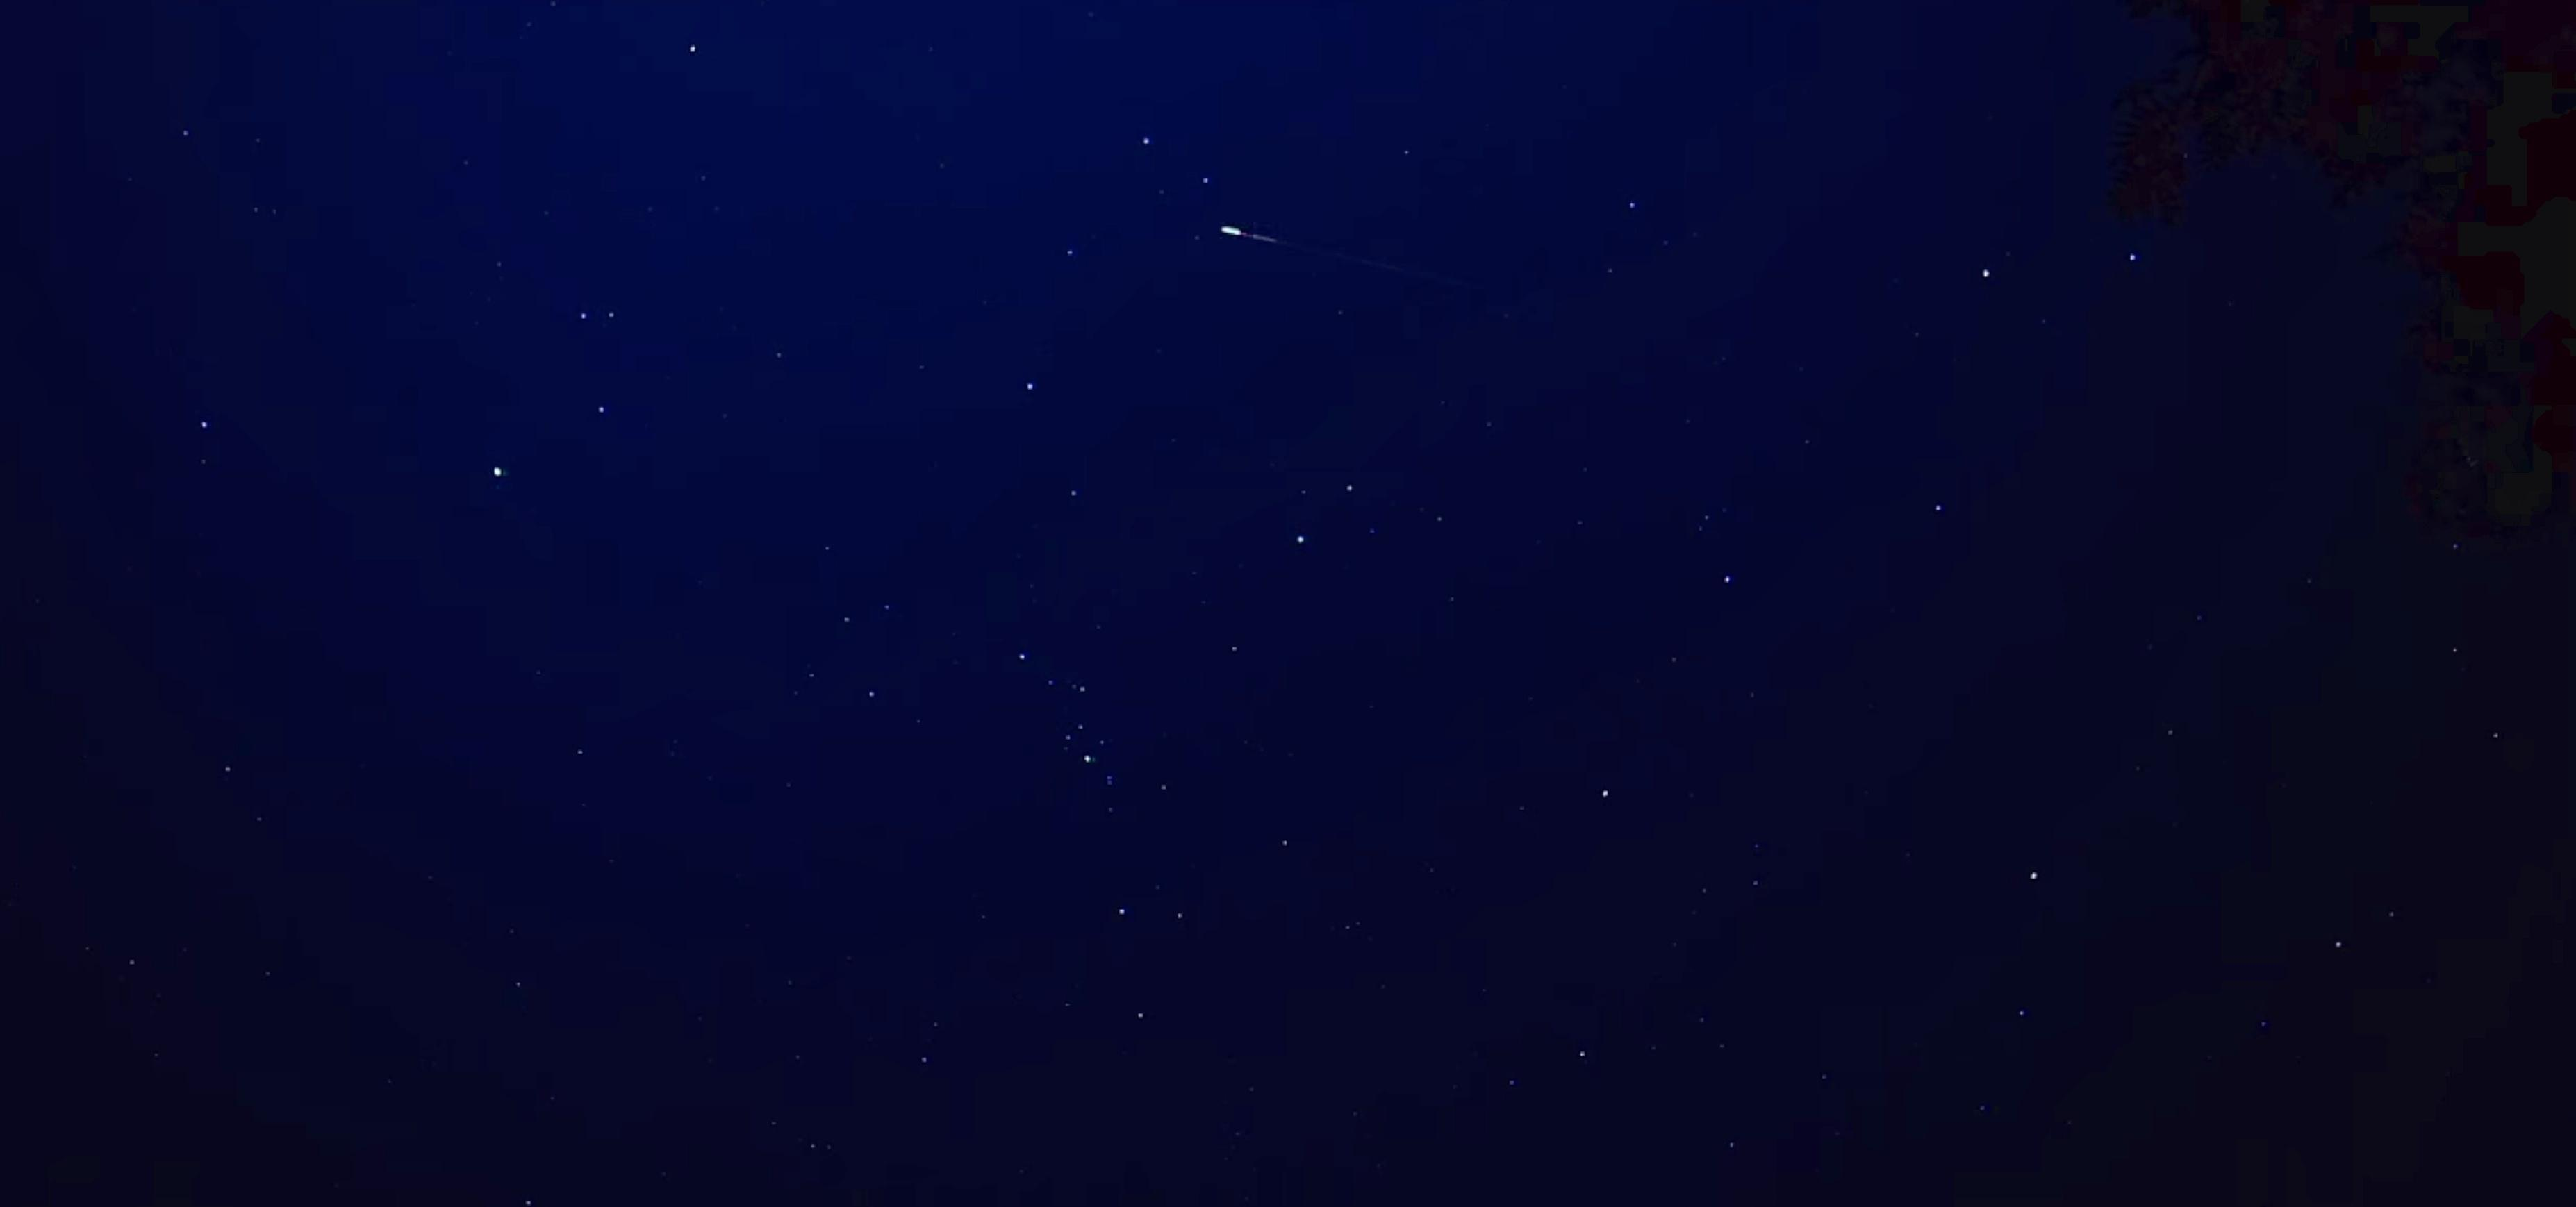meteorite: (1173, 213, 1457, 276)
